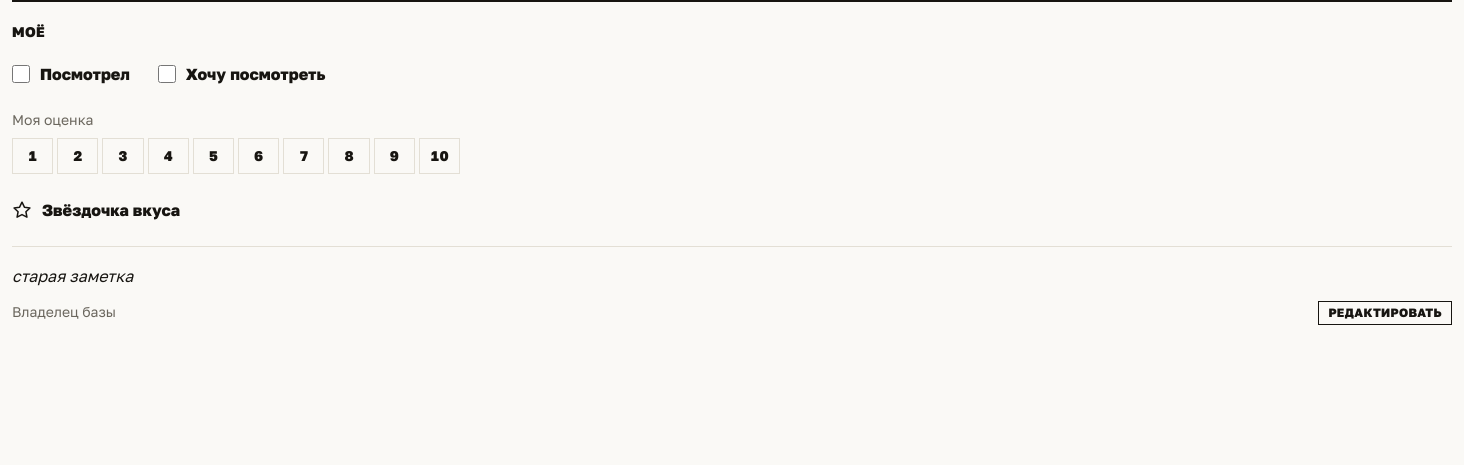
Test: комментарий: блок вместо поля (критерии 10, 13, 15 и 17) › после успеха блок показывает новый текст и закрывает поле (критерий 13)
Click the button "Редактировать". click: (1385, 313)
box: [1318, 301, 1452, 325]
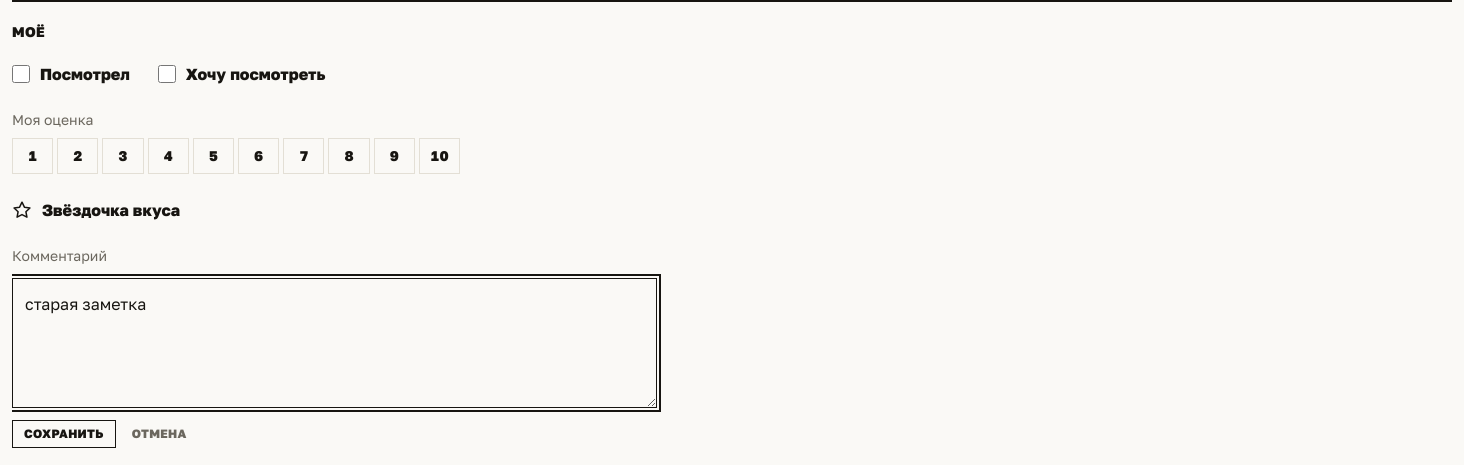
Replace the text in the text box with "новая заметка". click: (334, 343)
box: [12, 278, 657, 408]
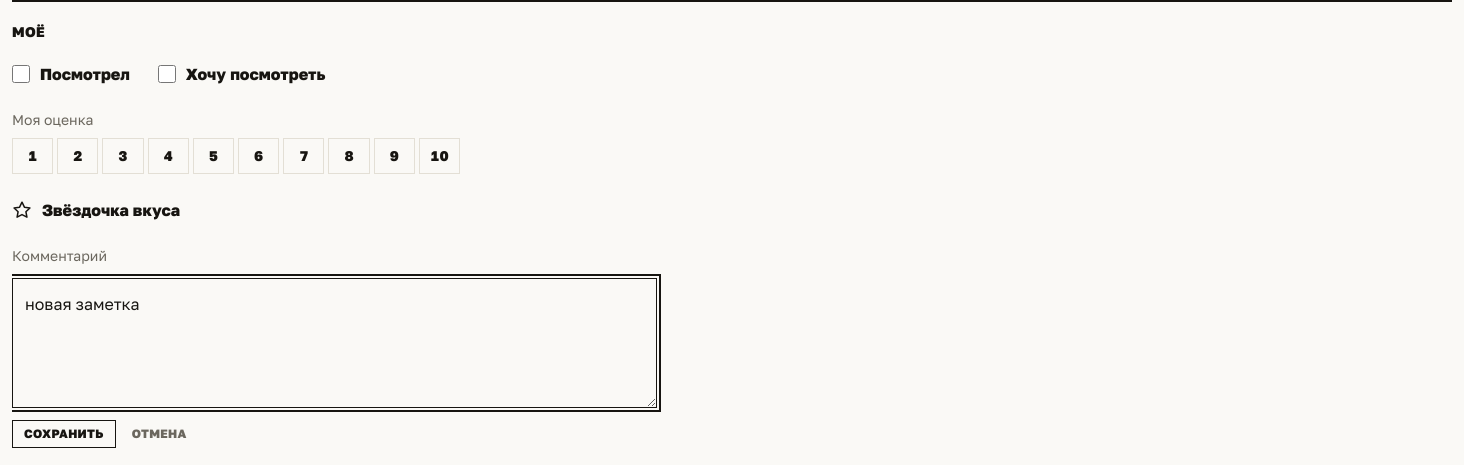
Click the button "Сохранить". click: (64, 434)
box: [12, 420, 116, 448]
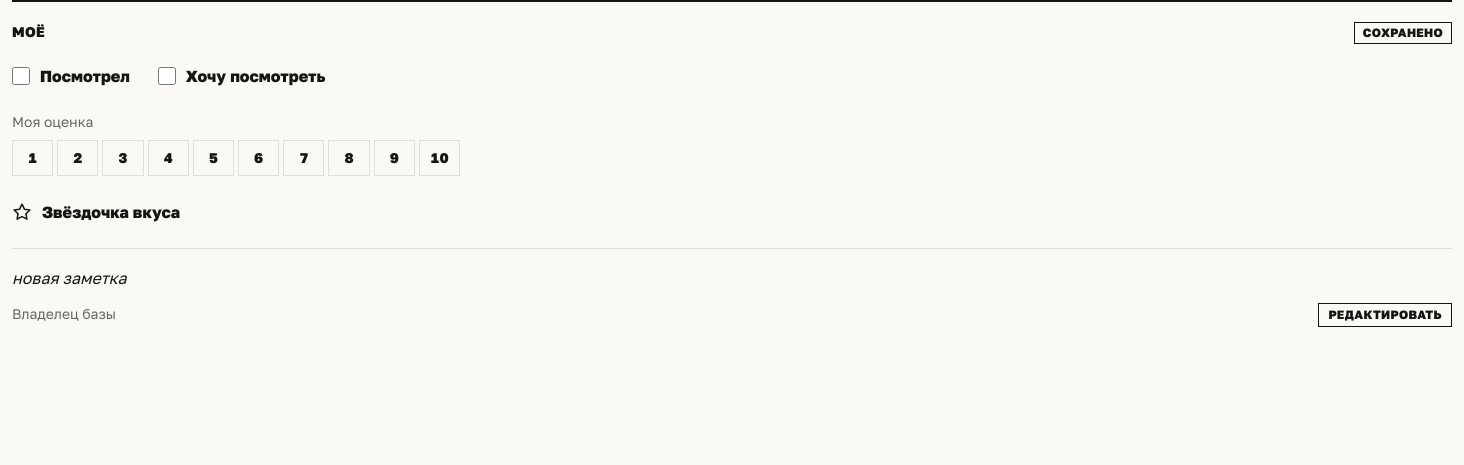
Expected: the text "старая заметка" is not shown
Expected: the text "новая заметка" is shown, [12, 268, 127, 288]
